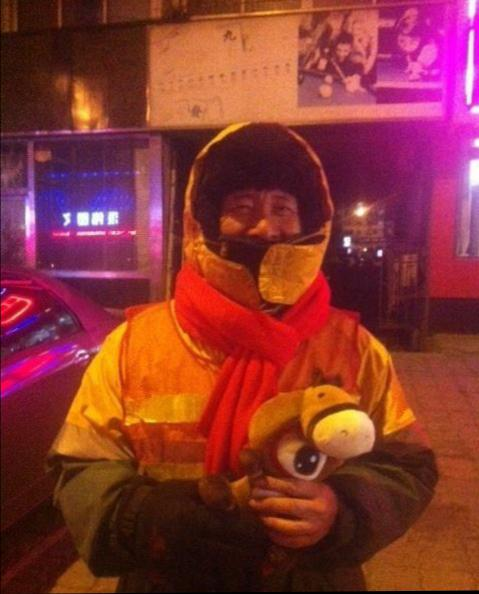WRONG: (212, 184, 307, 287)
